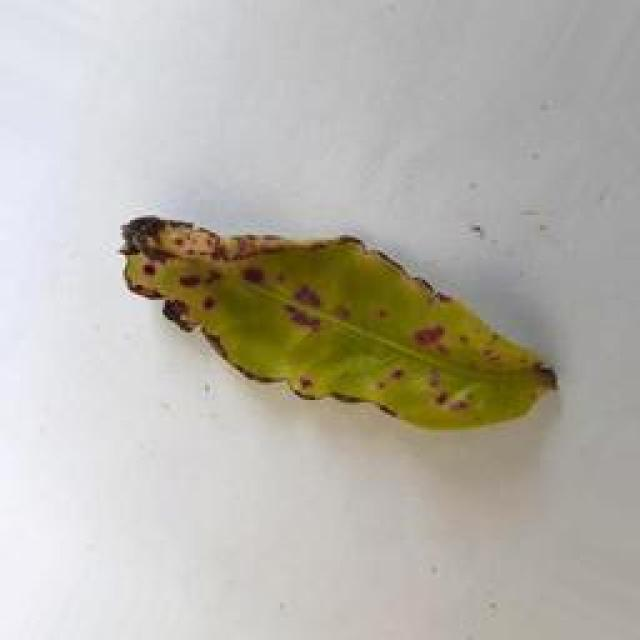Helopeltis: (114, 202, 572, 443)
